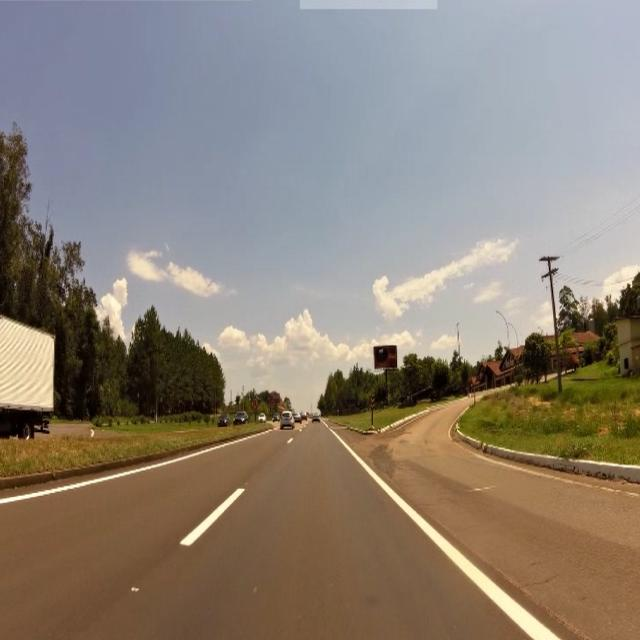MP: (371, 394, 375, 412)
R-5a: (251, 398, 259, 410)
